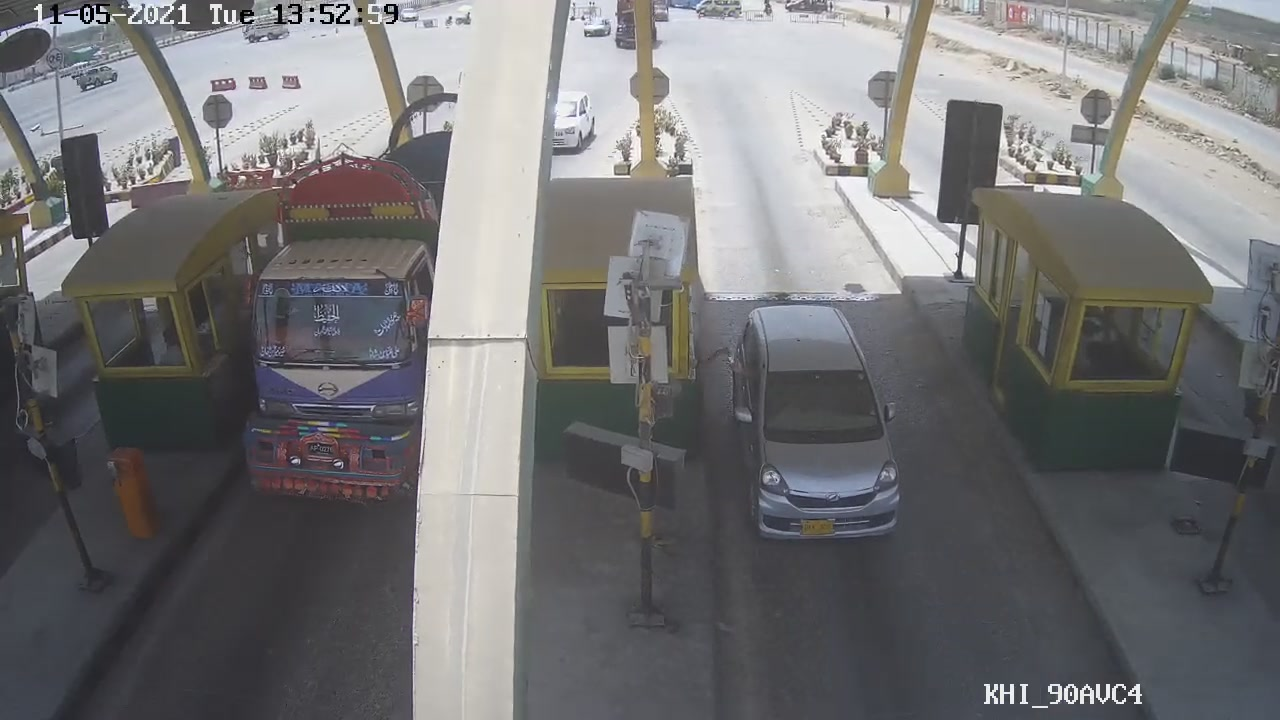F1: (718, 291, 911, 547)
